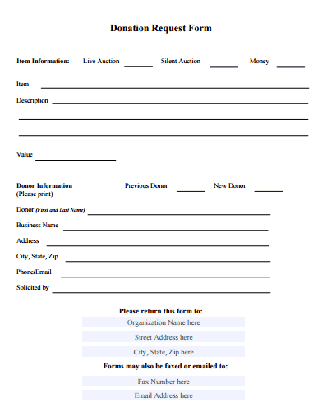textline: (16, 106, 310, 122), (16, 125, 310, 139), (38, 75, 310, 90), (48, 94, 309, 106), (43, 236, 272, 249), (49, 282, 276, 295), (62, 251, 273, 264), (62, 220, 272, 233), (85, 203, 272, 217), (57, 267, 275, 279), (33, 147, 119, 164), (121, 54, 155, 70), (172, 179, 208, 194), (206, 55, 240, 70), (274, 54, 307, 69), (252, 179, 284, 194)
